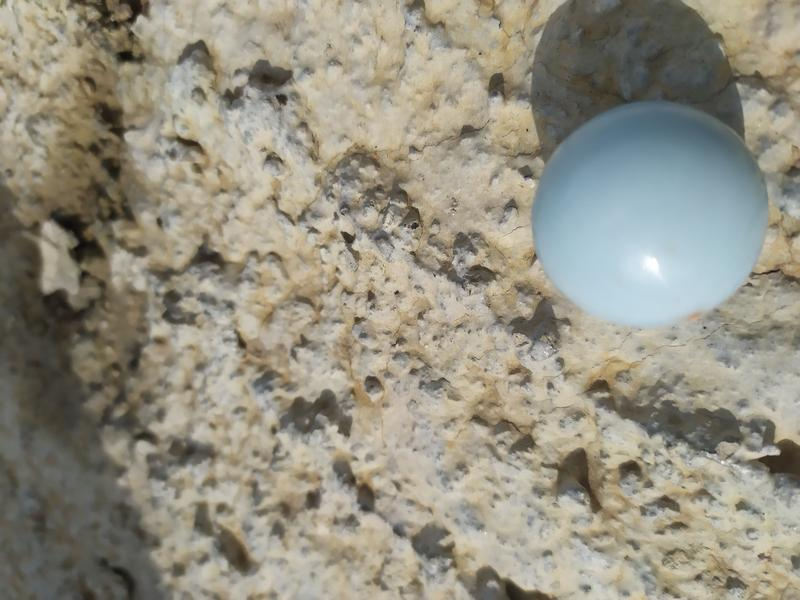Warning: (526, 93, 777, 333)
